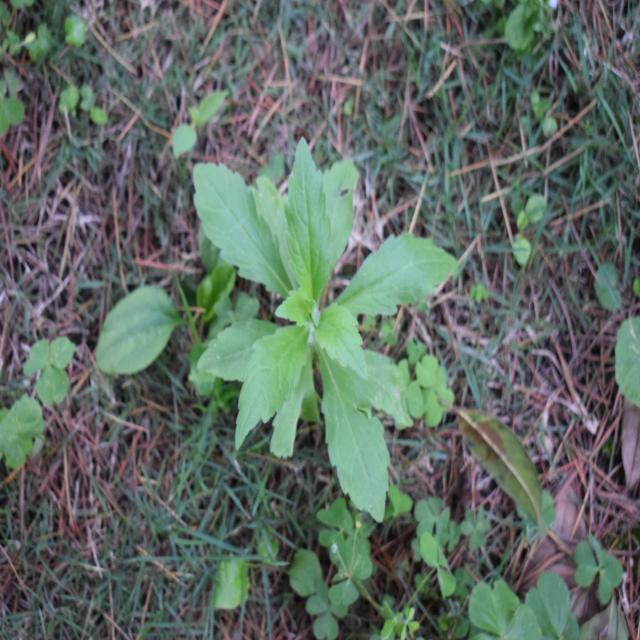horseweed: (218, 147, 432, 522)
